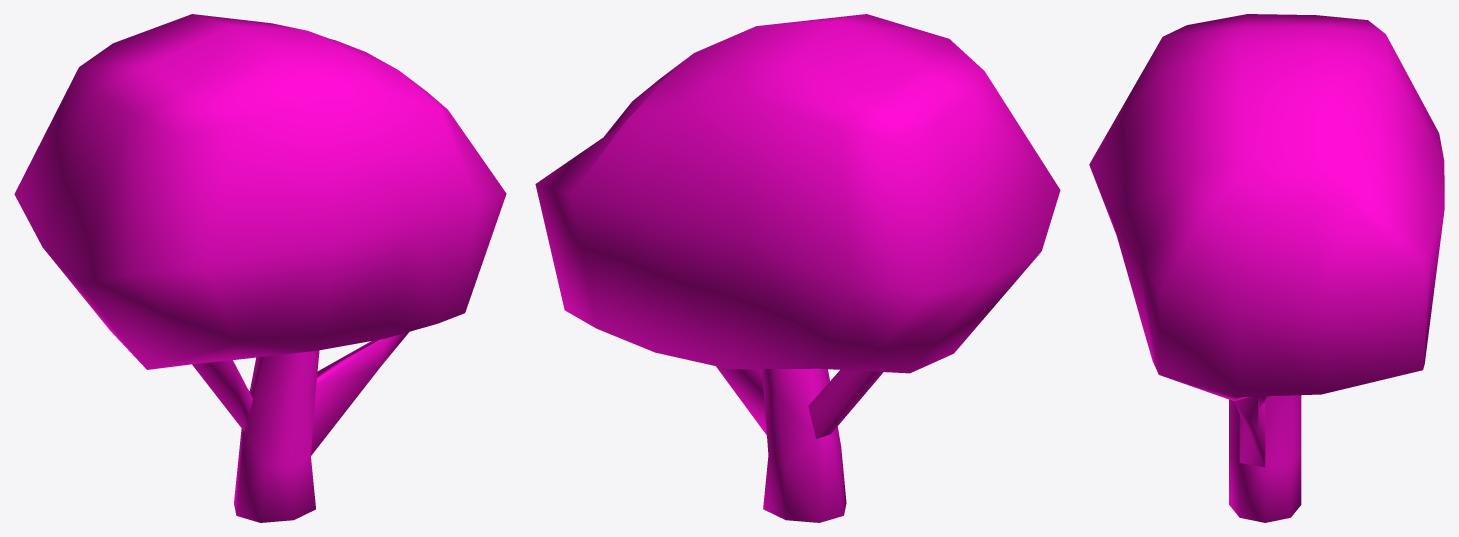
The model's file is Arbol 3.fbx.
3 renders of one model, left to right at view 1: azimuth 30°, elevation 25°; view 2: azimuth 150°, elevation 25°; view 3: azimuth 270°, elevation 25°, orthographic. The views are drawn at different scales.
Visible parts, largest first — view 1: Arbol_3_Low; view 2: Arbol_3_Low; view 3: Arbol_3_Low.
Part boxes in pixels (bbox=[...]): Arbol_3_Low: bbox=[14, 14, 506, 522]; Arbol_3_Low: bbox=[535, 14, 1060, 522]; Arbol_3_Low: bbox=[1089, 14, 1444, 522].
Size of the model in its own units: 553 by 604 by 430.
